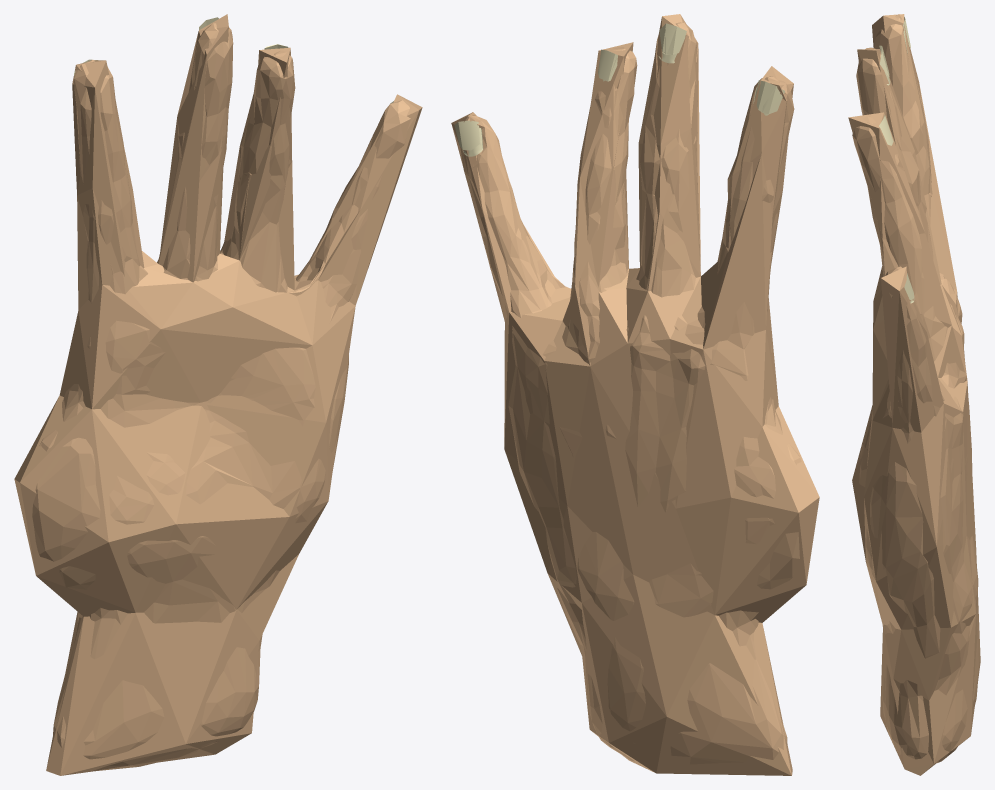
File: DesertHand.fbx
3 views of the same model, side by side, from view 1: azimuth 30°, elevation 25°; view 2: azimuth 150°, elevation 25°; view 3: azimuth 270°, elevation 25° (orthographic). The views are drawn at different scales.
Parts seen in each view (by area): view 1: Hand.002, Hand; view 2: Hand.002, Hand; view 3: Hand.002, Hand.
Part boxes in pixels (<box>): Hand.002: <box>14,14,422,775</box>; Hand: <box>32,23,417,771</box>; Hand.002: <box>451,14,819,775</box>; Hand: <box>460,22,801,764</box>; Hand.002: <box>848,14,980,775</box>; Hand: <box>852,14,979,763</box>.
Size of the model in its own units: 547 by 1012 by 169.
